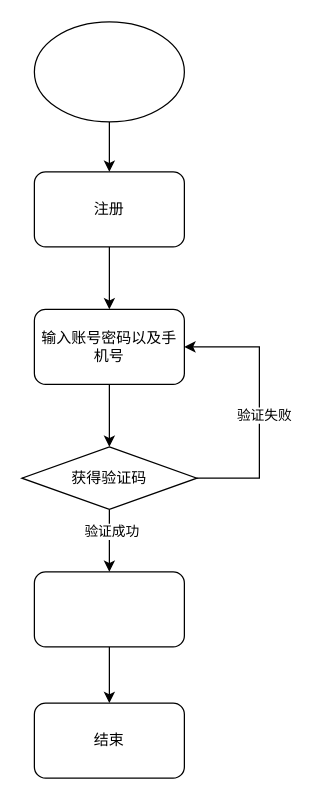
The diagram is 313 pixels wide and 800 high, and some of its shapes have lost their labels. Each missing label, with the box of its shape:
开始: (33, 21, 184, 122)
注册成功: (33, 571, 184, 647)
